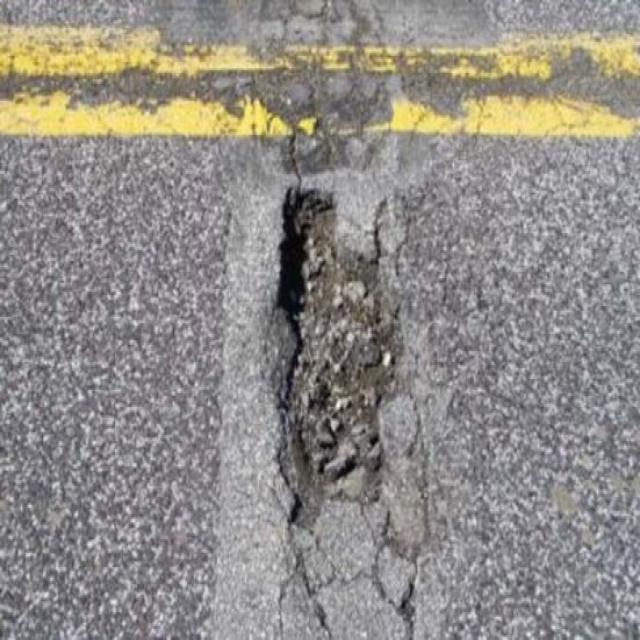Pothole: (271, 178, 408, 542)
